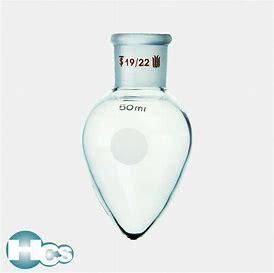Pear shaped flask: (69, 29, 194, 239)
